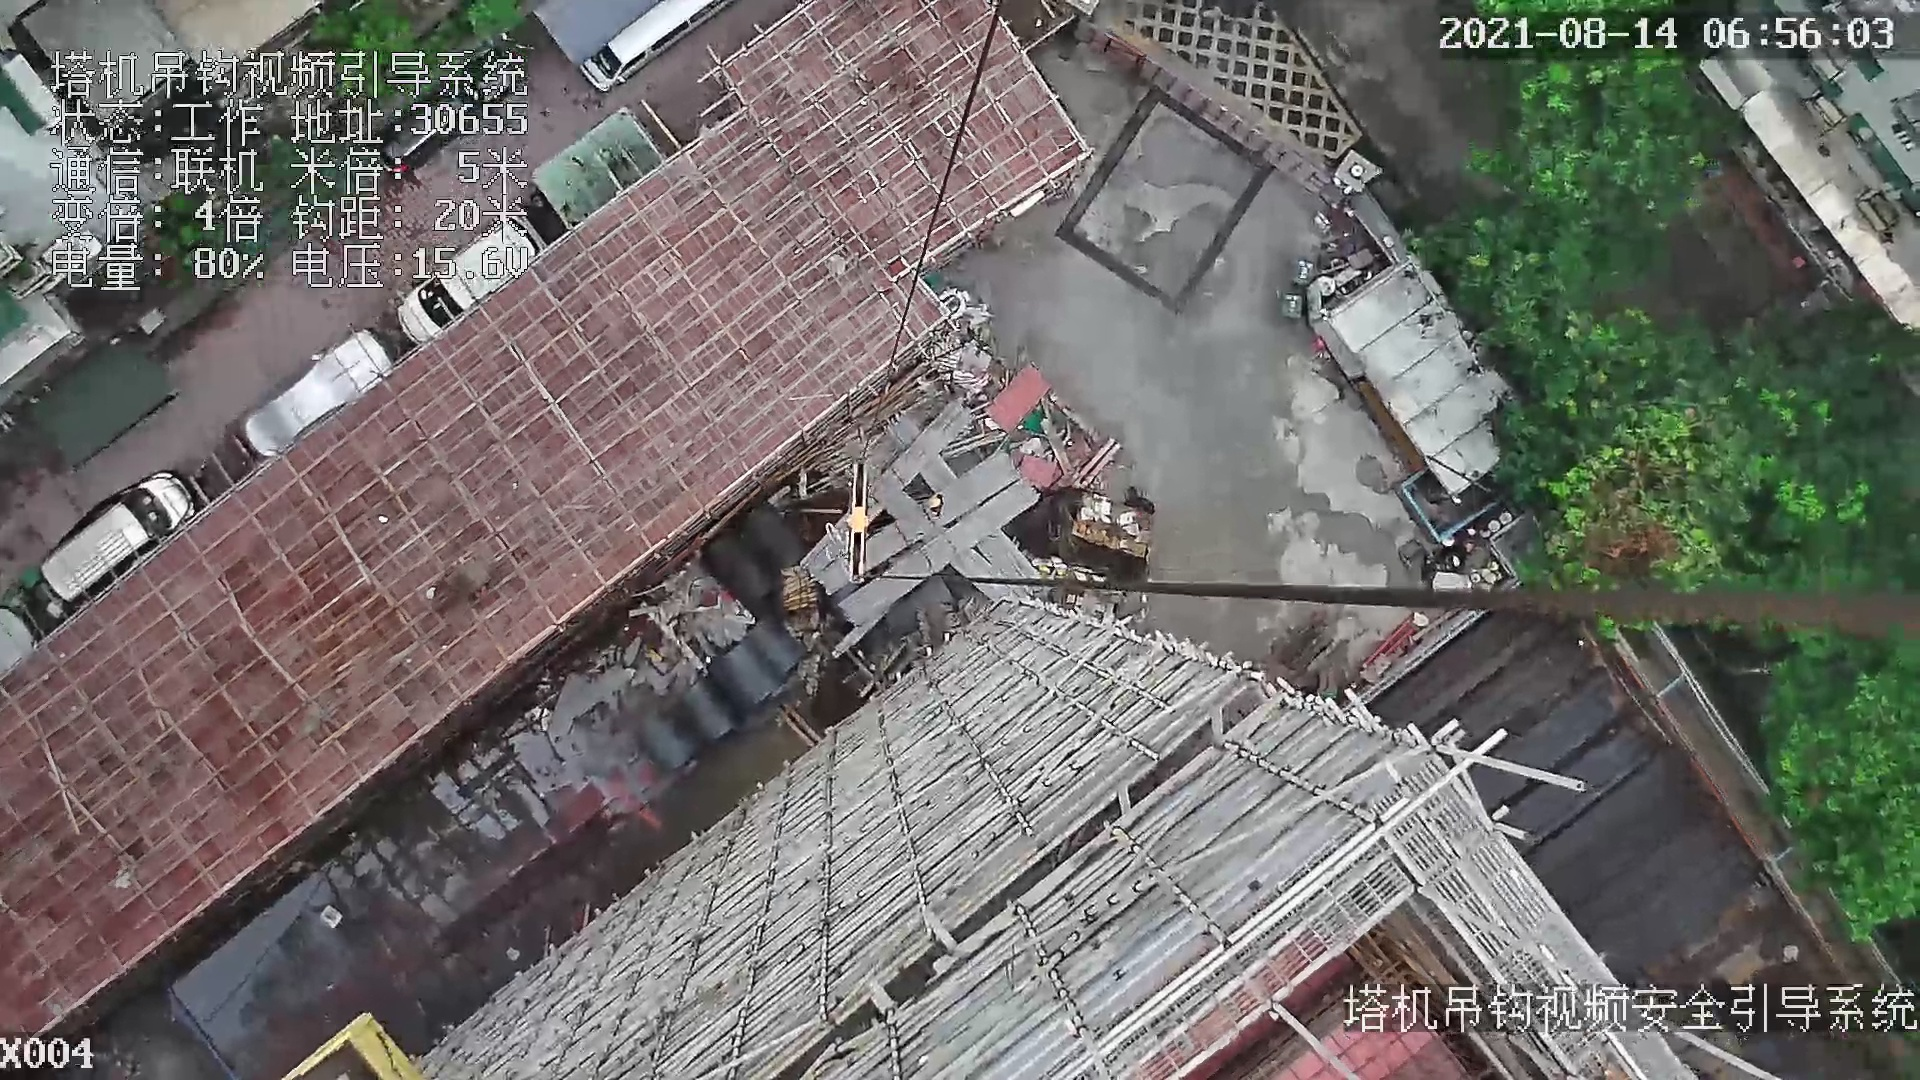helmet: (928, 498, 941, 509)
hook: (835, 458, 877, 582)
person: (927, 492, 945, 521)
rebar: (837, 479, 1039, 631), (802, 399, 971, 575), (812, 454, 1018, 596), (950, 550, 1012, 601), (978, 530, 1041, 581)
wood: (782, 574, 817, 611)
